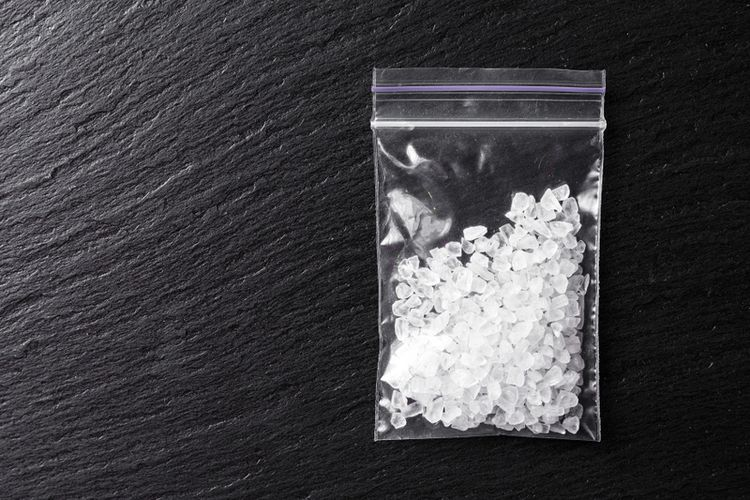Jenis Benda: Narkotika dan Narkoba: (368, 73, 597, 441)
Nama Benda: Sabu-sabu: (368, 73, 597, 447)
